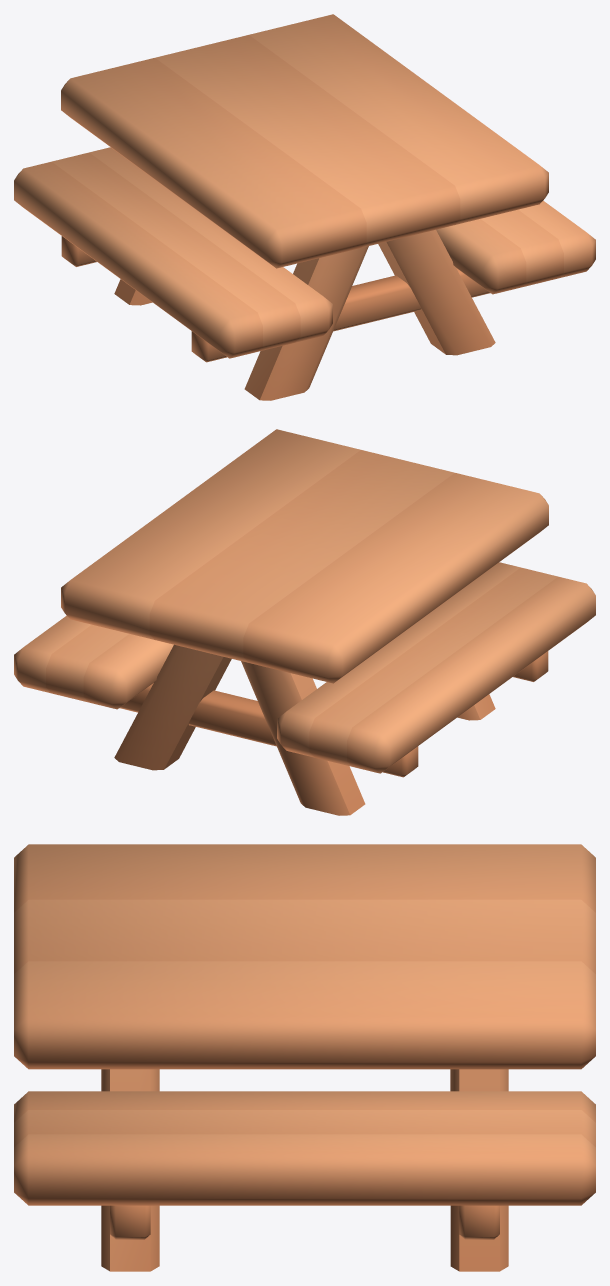
File: picnic_table.glb
3 renders of one model, top to bottom at view 1: azimuth 30°, elevation 25°; view 2: azimuth 150°, elevation 25°; view 3: azimuth 270°, elevation 25°, orthographic. The views are drawn at different scales.
Parts seen in each view (by area): view 1: picnic_table; view 2: picnic_table; view 3: picnic_table.
Boxes of the visible parts, bbox=[...] form: picnic_table: bbox=[14, 14, 595, 400]; picnic_table: bbox=[14, 429, 595, 815]; picnic_table: bbox=[14, 844, 595, 1271].
Bounding box in the file's own units: 2 × 1 × 2.
Materials: 1 (1 with a texture image).
